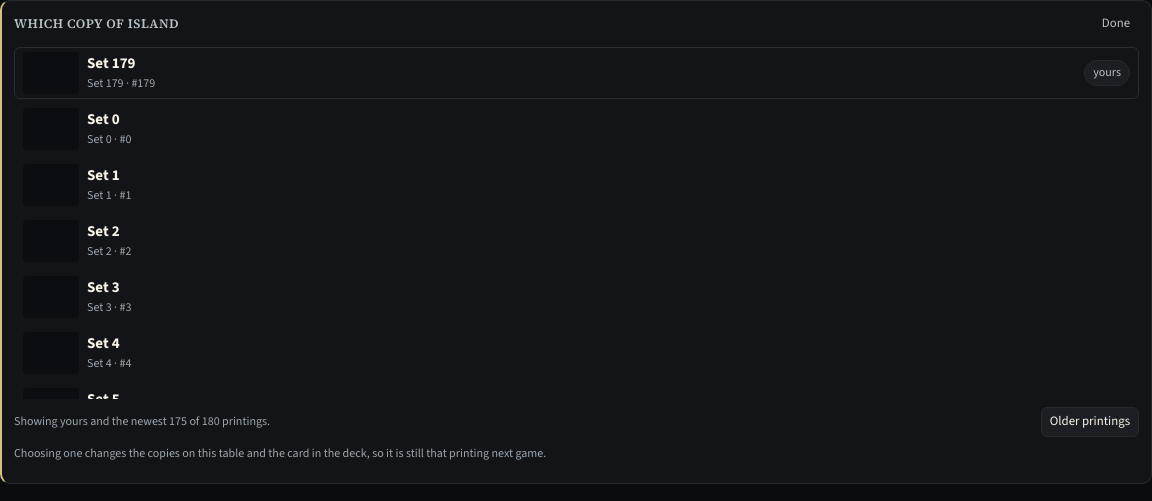
Test: the printings picker › lists the deck's own copy first when it is older than the newest page, and says so in the count
This screenshot has width=1152, height=501.
Expected: the button "Set 179 Set 179 · #179 yours" is shown, [14, 47, 1139, 99]
What coordinates should you click on to do the following:
click the button "Older printings"
I would click on:
 (1090, 422)
Its box is [1041, 407, 1139, 437].
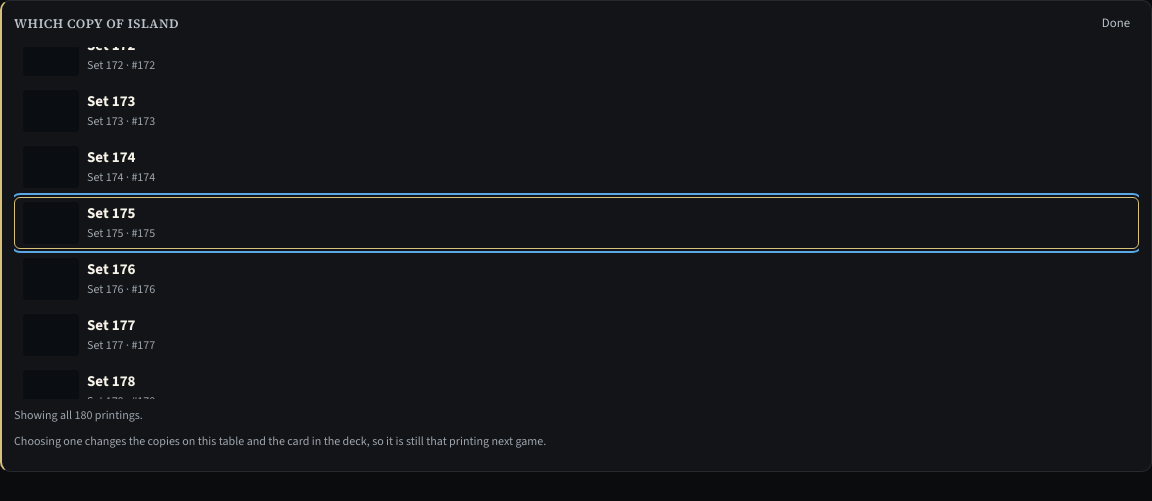
Result: the button "Set 175 Set 175 · #175" is shown at [14, 197, 1139, 249]
